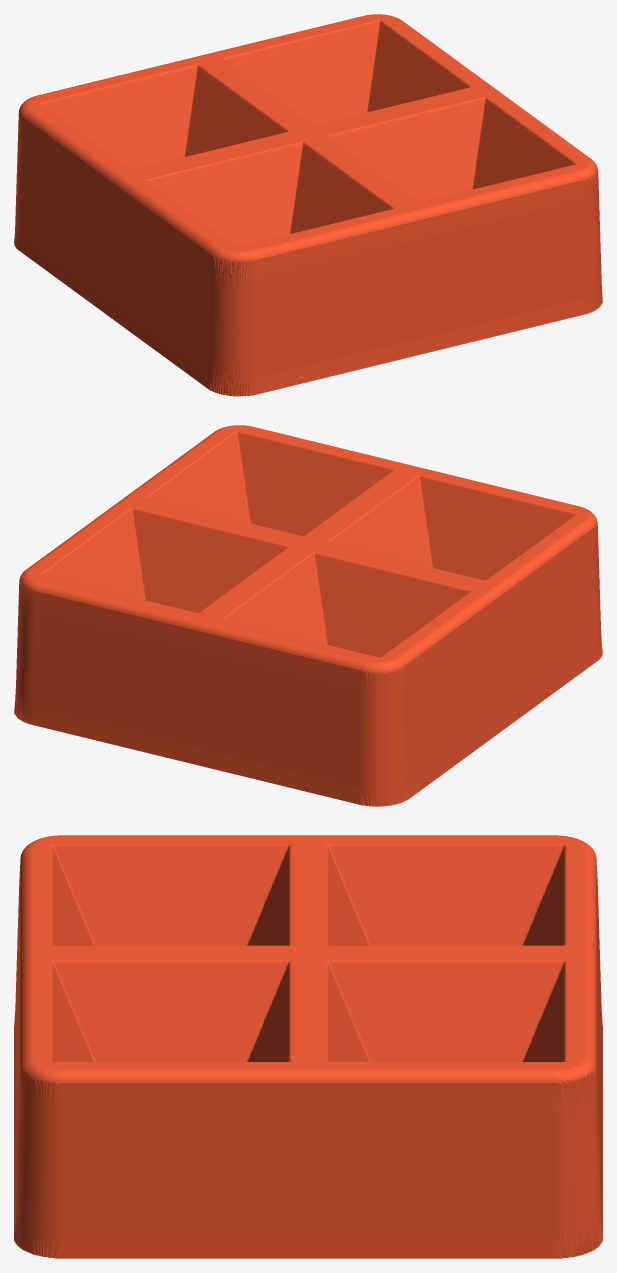
Rendered from mold.glb.
3 views of the same model, one above another, from view 1: azimuth 30°, elevation 25°; view 2: azimuth 150°, elevation 25°; view 3: azimuth 270°, elevation 25° (orthographic). The views are drawn at different scales.
Parts seen in each view (by area): view 1: geometry_0; view 2: geometry_0; view 3: geometry_0.
Boxes of the visible parts, x1,y1,x2,y2 form: geometry_0: [14, 14, 602, 396]; geometry_0: [14, 425, 602, 806]; geometry_0: [14, 835, 602, 1258].
Bounding box in the file's own units: 0.1112 × 0.0378 × 0.1112.
